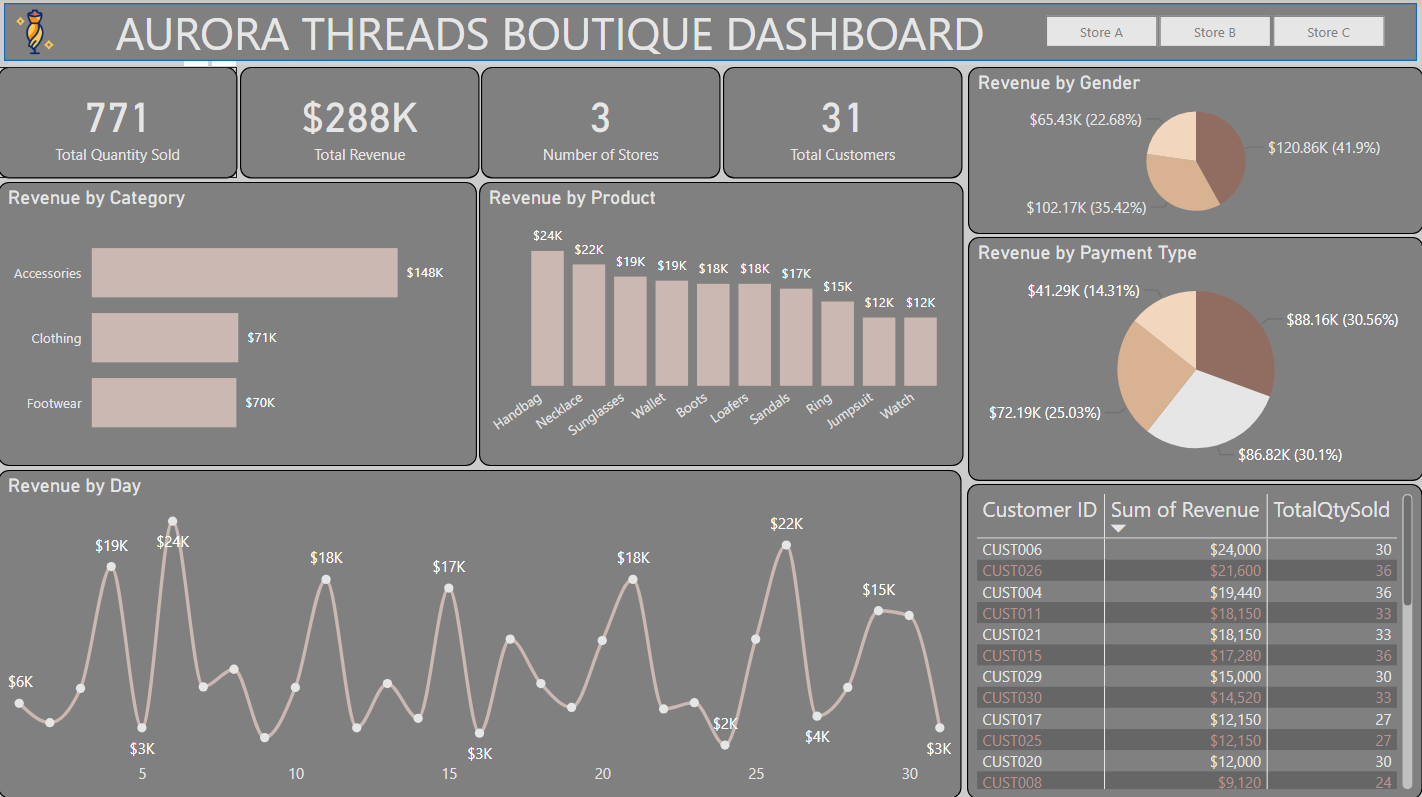

What the dashboard file says about the page in this screenshot:
{"tool":"powerbi","page":{"name":"Aurora Report","canvas":[1280,720],"ordinal":0},"visuals":[{"type":"card","fields":{"Values":["Sum(AuroraData.Quantity)"]},"box":[0,62.8,215,100],"z":0},{"type":"card","fields":{"Values":["Sum(AuroraData.Revenue)"]},"box":[217,62.8,215,100],"z":1000},{"type":"card","fields":{"Values":["Count(AuroraData.Store)"]},"box":[433.9,62.8,215,100],"z":2000},{"type":"card","fields":{"Values":["Count(AuroraData.Customer ID)"]},"box":[650.9,62.8,215,100],"z":3000},{"type":"clusteredBarChart","title":"Revenue by Category","fields":{"Category":["AuroraData.Category"],"Y":["Sum(AuroraData.Revenue)"]},"box":[0,166.2,430,255],"z":4000},{"type":"clusteredColumnChart","title":"Revenue by Product","fields":{"Y":["Sum(AuroraData.Revenue)"],"Category":["AuroraData.Product"]},"box":[431.8,166.1,435.4,255],"z":5000},{"type":"lineChart","title":"Revenue by Day","fields":{"Y":["Sum(AuroraData.Revenue)"],"Category":["AuroraData.Date.Variation.Date Hierarchy.Day"]},"box":[0,424.6,864.5,295.4],"z":6000},{"type":"pieChart","title":"Revenue by Gender","fields":{"Y":["Sum(AuroraData.Revenue)"],"Category":["AuroraData.Gender"]},"box":[870.8,62.8,409.4,149.9],"z":7000},{"type":"pieChart","title":"Revenue by Payment Type","fields":{"Y":["Sum(AuroraData.Revenue)"],"Category":["AuroraData.Payment Type"]},"box":[870.6,215.5,409.4,219.1],"z":8000},{"type":"pivotTable","fields":{"Rows":["AuroraData.Customer ID"],"Values":["Sum(AuroraData.Revenue)","AuroraData.TotalQtySold"]},"box":[869.9,437.2,409.4,282.8],"z":9000},{"type":"shape","box":[0,0,1279.3,62.8],"z":10000},{"type":"slicer","fields":{"Values":["AuroraData.Store"]},"box":[914.8,9.9,353.7,42.2],"z":11000},{"type":"image","box":[8.1,6.3,50.3,50.3],"z":12001}]}

Visuals, with their boxes in screenshot pixels (x1, y1, x2, y2), scaled from the page's 1280x720 canvas onto the 1422x797 screenshot:
card - Sum(AuroraData.Quantity): (x1=0, y1=70, x2=239, y2=180)
card - Sum(AuroraData.Revenue): (x1=241, y1=70, x2=480, y2=180)
card - Count(AuroraData.Store): (x1=482, y1=70, x2=721, y2=180)
card - Count(AuroraData.Customer ID): (x1=723, y1=70, x2=962, y2=180)
"Revenue by Category" clusteredBarChart: (x1=0, y1=184, x2=478, y2=466)
"Revenue by Product" clusteredColumnChart: (x1=480, y1=184, x2=963, y2=466)
"Revenue by Day" lineChart: (x1=0, y1=470, x2=960, y2=796)
"Revenue by Gender" pieChart: (x1=967, y1=70, x2=1421, y2=235)
"Revenue by Payment Type" pieChart: (x1=967, y1=239, x2=1421, y2=481)
pivotTable - AuroraData.Customer ID x Sum(AuroraData.Revenue): (x1=966, y1=484, x2=1421, y2=796)
shape: (x1=0, y1=0, x2=1421, y2=70)
slicer - AuroraData.Store: (x1=1016, y1=11, x2=1409, y2=58)
image: (x1=9, y1=7, x2=65, y2=63)
